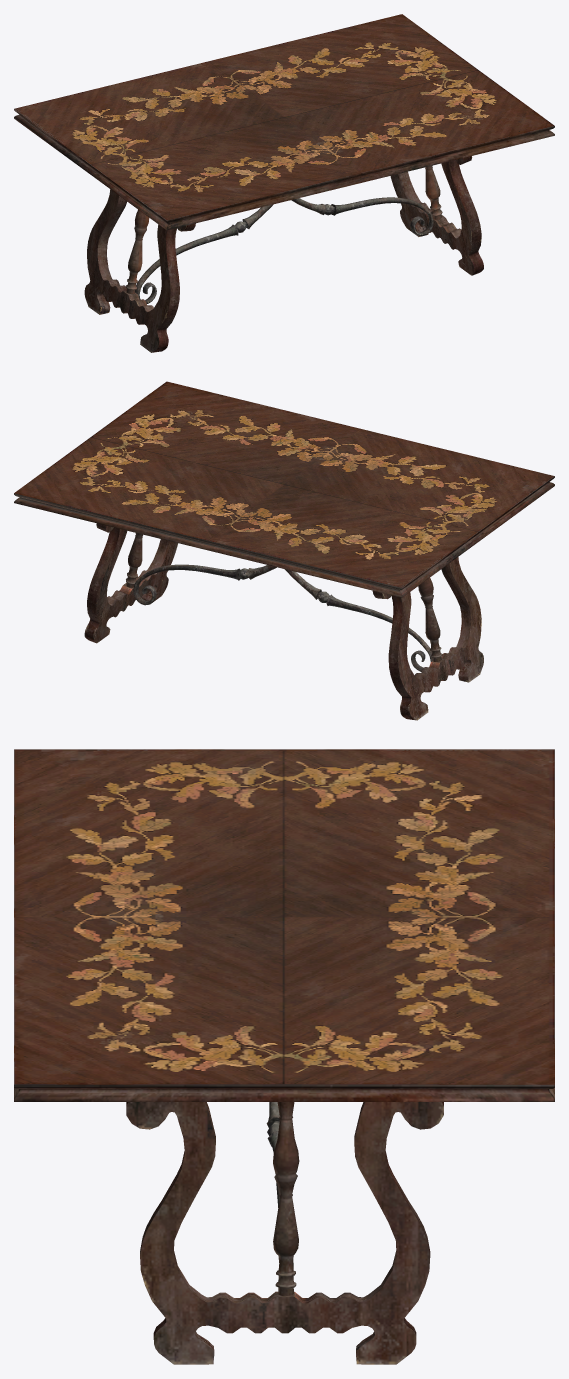
The model's file is 205_librarydesk01a.fbx.
3 views of the same model, one above another, from view 1: azimuth 30°, elevation 25°; view 2: azimuth 150°, elevation 25°; view 3: azimuth 270°, elevation 25° (orthographic). The views are drawn at different scales.
Parts seen in each view (by area): view 1: LOD_1_Group_0_Sub_1__sm30_205_LibraryDesk01A_A_Mat; view 2: LOD_1_Group_0_Sub_1__sm30_205_LibraryDesk01A_A_Mat; view 3: LOD_1_Group_0_Sub_1__sm30_205_LibraryDesk01A_A_Mat.
Boxes of the visible parts, bbox=[...] form: LOD_1_Group_0_Sub_1__sm30_205_LibraryDesk01A_A_Mat: bbox=[14, 14, 554, 352]; LOD_1_Group_0_Sub_1__sm30_205_LibraryDesk01A_A_Mat: bbox=[14, 381, 554, 720]; LOD_1_Group_0_Sub_1__sm30_205_LibraryDesk01A_A_Mat: bbox=[14, 749, 554, 1364].
Size of the model in its own units: 1.8 by 0.7655 by 1.23.
